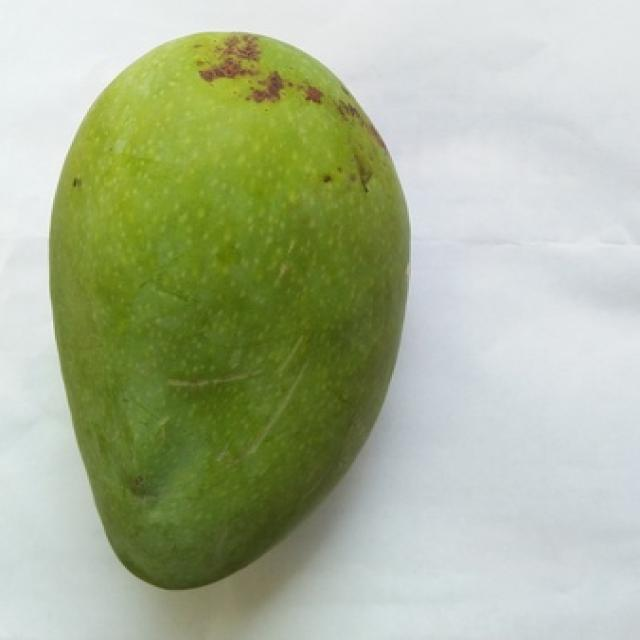Mango: (49, 34, 409, 588)
